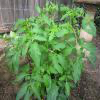Tomato leaf: (72, 58, 83, 87), (79, 39, 96, 55), (30, 43, 41, 67), (12, 47, 21, 76), (29, 82, 42, 99), (53, 26, 73, 37), (48, 81, 60, 99), (57, 52, 68, 71), (17, 81, 28, 99), (39, 46, 48, 67), (32, 33, 47, 45), (13, 17, 25, 32), (52, 41, 67, 53), (28, 26, 44, 37), (14, 71, 27, 84), (84, 27, 97, 40), (86, 54, 97, 69), (22, 40, 31, 58), (3, 49, 15, 62), (33, 72, 44, 86), (53, 55, 61, 74), (41, 73, 50, 89), (15, 26, 27, 37), (48, 66, 60, 77), (17, 33, 30, 43), (60, 12, 70, 23), (41, 15, 51, 26), (19, 64, 31, 73), (28, 21, 40, 30), (48, 30, 55, 43), (35, 6, 42, 15), (33, 37, 48, 41), (66, 37, 76, 43)
